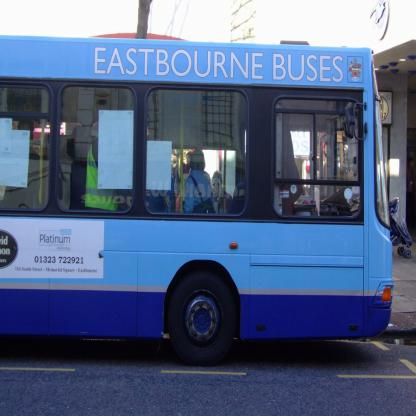Bus: (0, 37, 393, 366)
